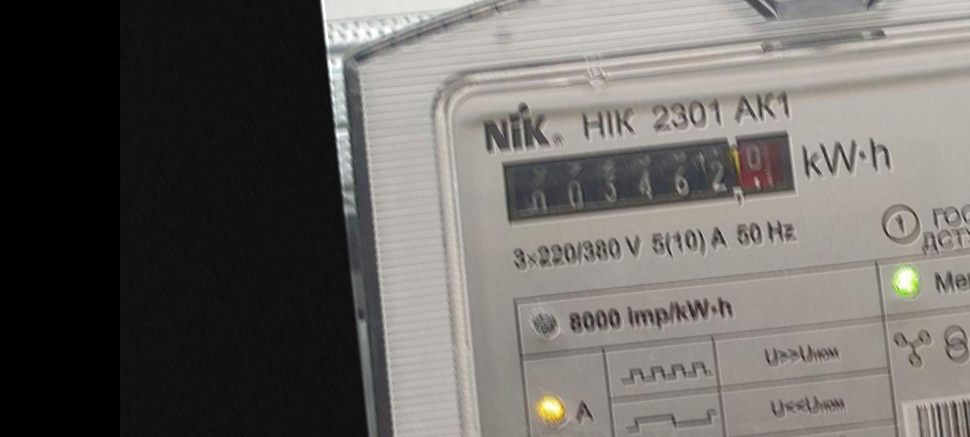0: (566, 178, 587, 209), (745, 143, 765, 173), (528, 188, 550, 213)
2: (708, 159, 730, 193)
3: (600, 172, 622, 206)
4: (637, 167, 657, 201)
6: (671, 163, 694, 199)
9: (529, 166, 551, 187)
screen: (489, 119, 809, 243)
